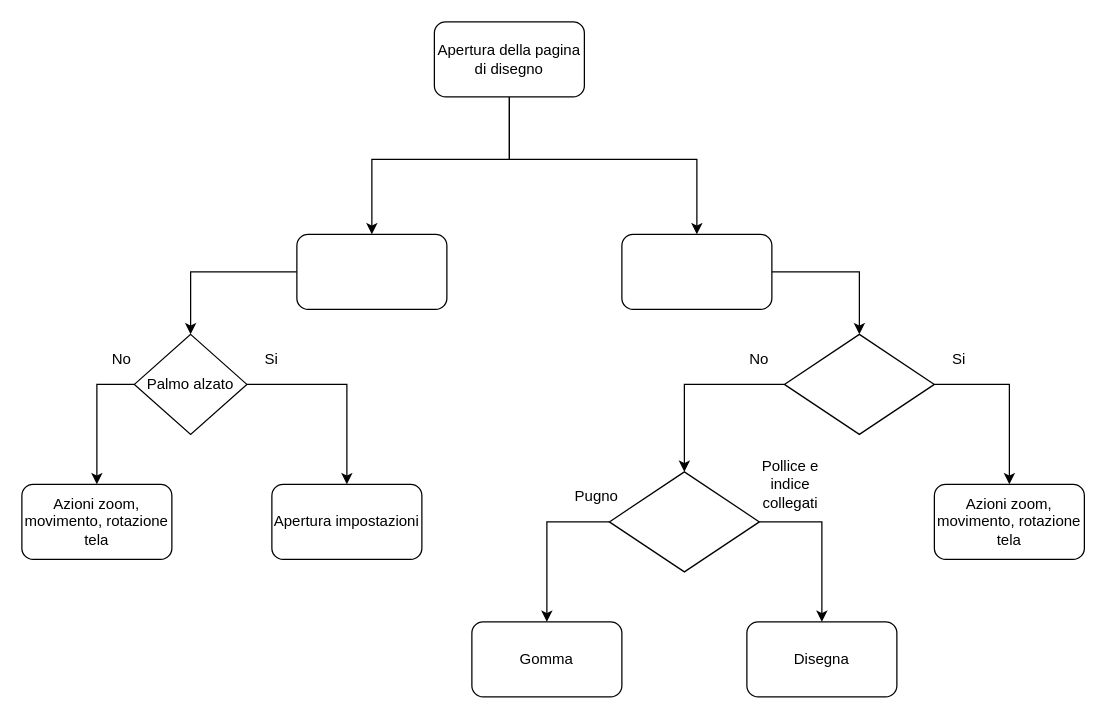
Some shapes in this 1106 by 719 pixel diagram are drawn without their labels. Each missing label, with the box of its shape:
Completamente aperta: (783, 333, 934, 434)
Mano debole: (296, 233, 447, 309)
Mano dominante: (621, 233, 772, 309)
Posizione dita: (608, 471, 759, 572)
